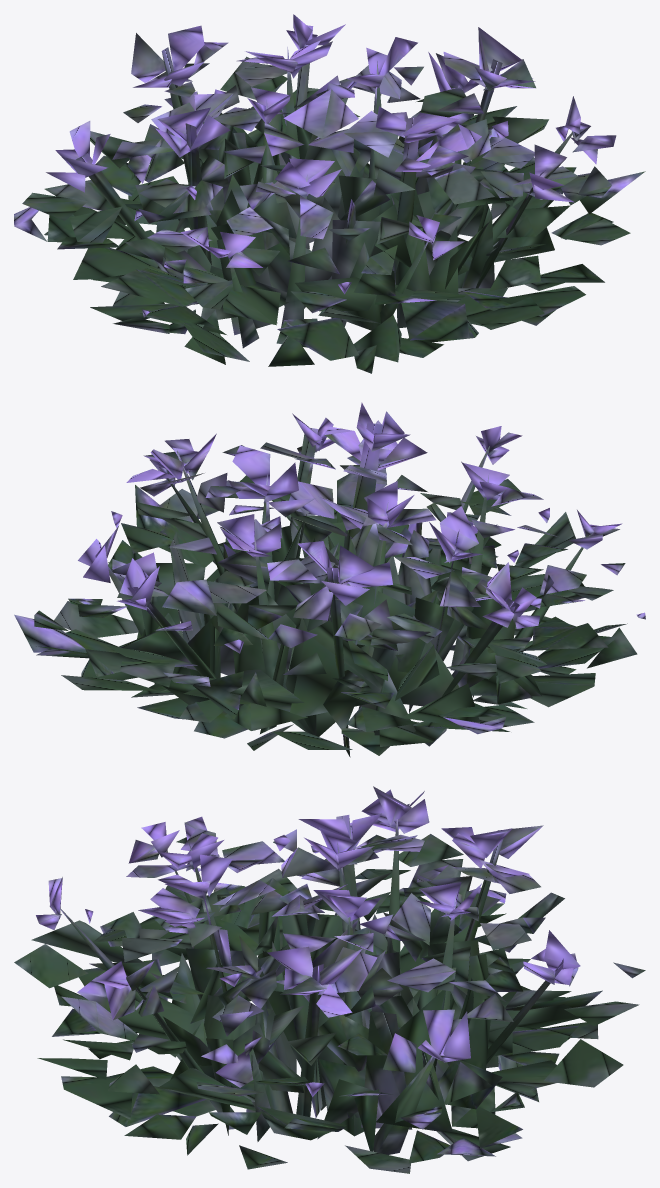
Rendered from v-fleurs-lavande-semis.glb.
3 renders of one model, top to bottom at view 1: azimuth 30°, elevation 25°; view 2: azimuth 150°, elevation 25°; view 3: azimuth 270°, elevation 25°, orthographic. The views are drawn at different scales.
Visible parts, largest first — view 1: v-fleurs-lavande-semis; view 2: v-fleurs-lavande-semis; view 3: v-fleurs-lavande-semis.
Part boxes in pixels (left/top/right/bottom): v-fleurs-lavande-semis: left=14, top=14, right=645, bottom=373; v-fleurs-lavande-semis: left=14, top=402, right=645, bottom=757; v-fleurs-lavande-semis: left=14, top=786, right=645, bottom=1173.
Bounding box in the file's own units: 1.97 × 0.8701 × 1.99.
Materials: 1 (1 with a texture image).
